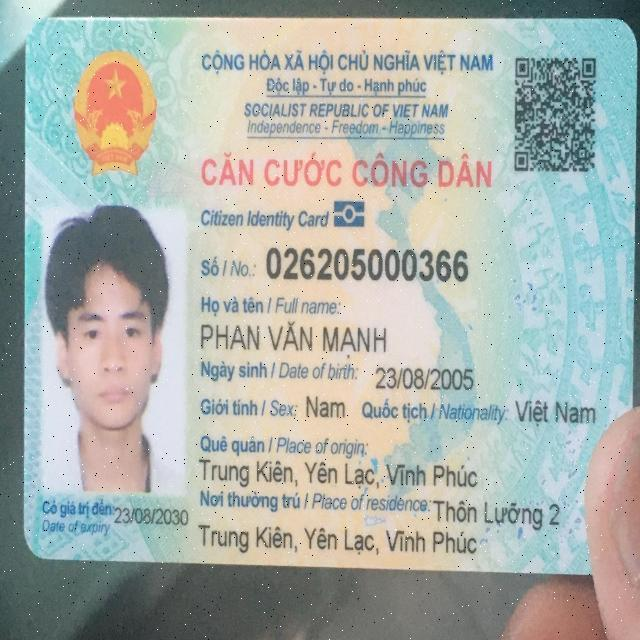current_place: (199, 518, 480, 559), (432, 495, 562, 531)
dob: (375, 357, 479, 393)
expire_date: (112, 504, 190, 529)
gender: (302, 392, 347, 424)
id: (264, 239, 474, 284)
name: (198, 318, 397, 359)
nationality: (514, 394, 601, 427)
origin_place: (200, 453, 480, 493)
qr: (510, 48, 606, 182)
